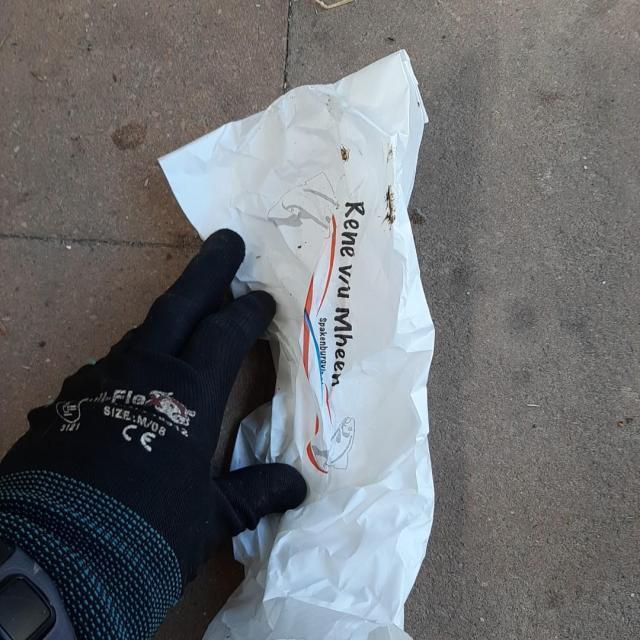Paper: (155, 44, 438, 640)
